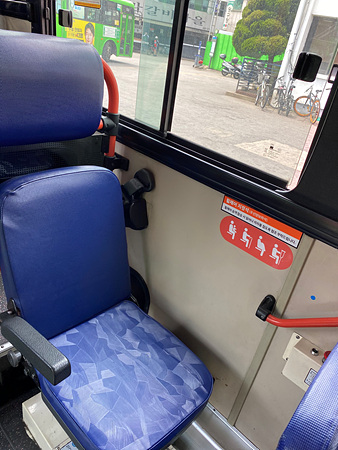seat: (8, 169, 214, 449)
